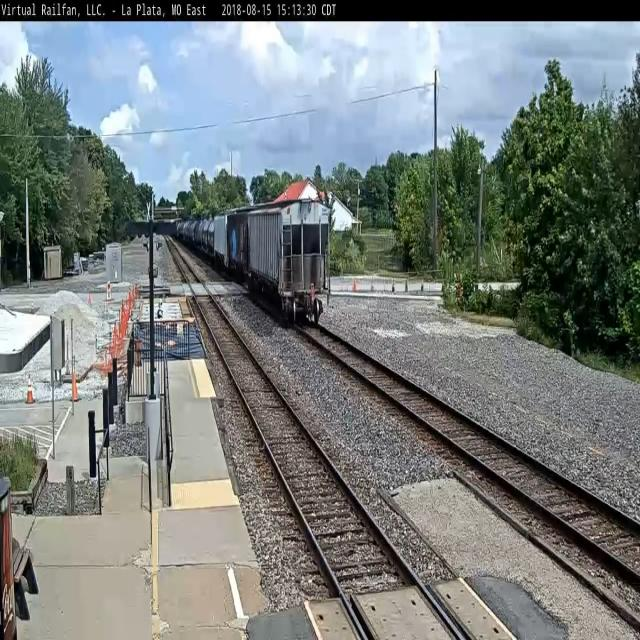hopper: (242, 194, 335, 336)
